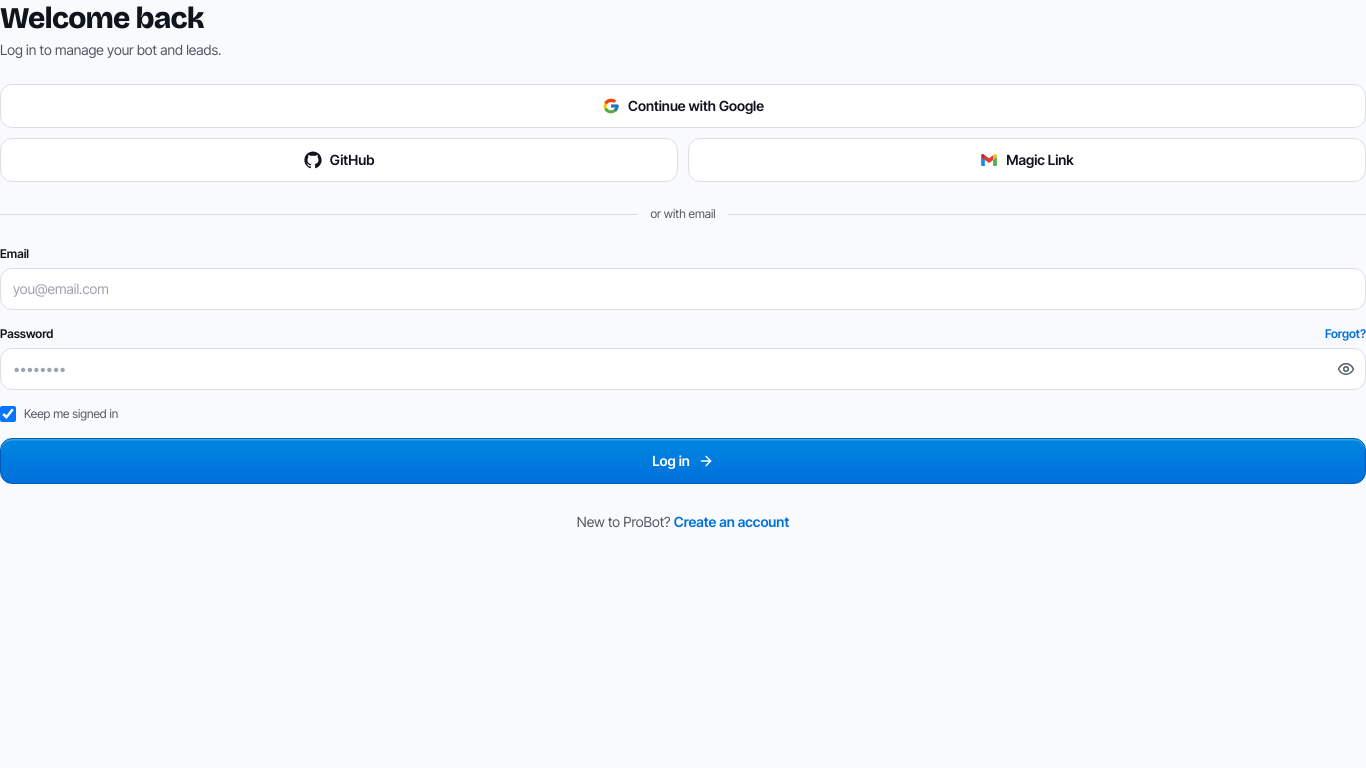
it: LoginForm › Magic Link button opens the magic-link modal (no immediate signIn)
What coordinates should you click on to do the following:
click the button "Magic Link"
I would click on:
 (1027, 160)
Its box is left=688, top=138, right=1365, bottom=182.
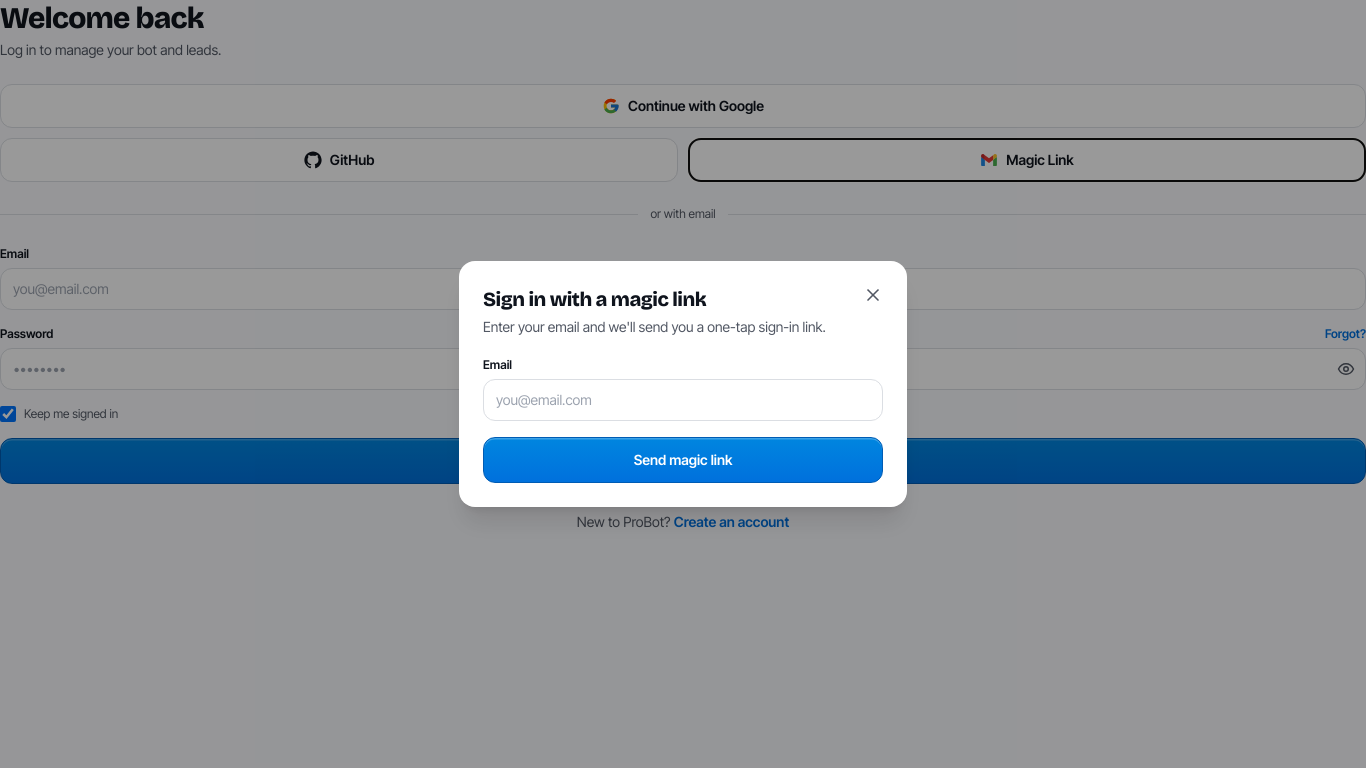
Expected: the dialog "Sign in with a magic link" is shown, left=459, top=261, right=907, bottom=507
